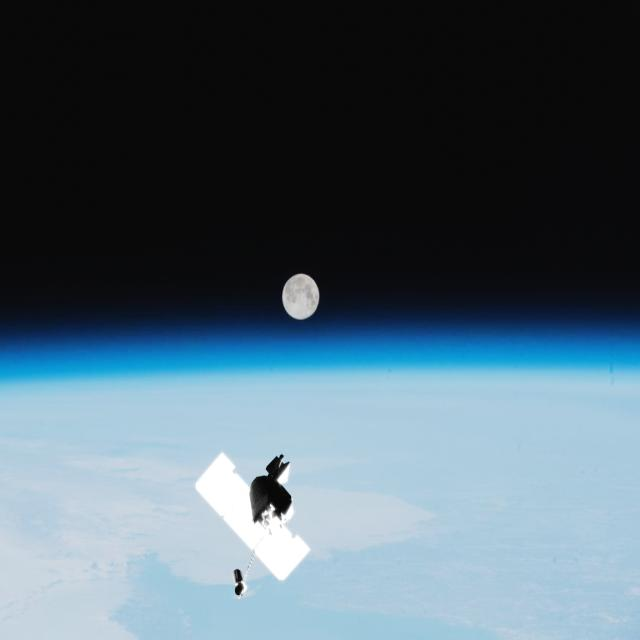satellite: (180, 439, 348, 593)
